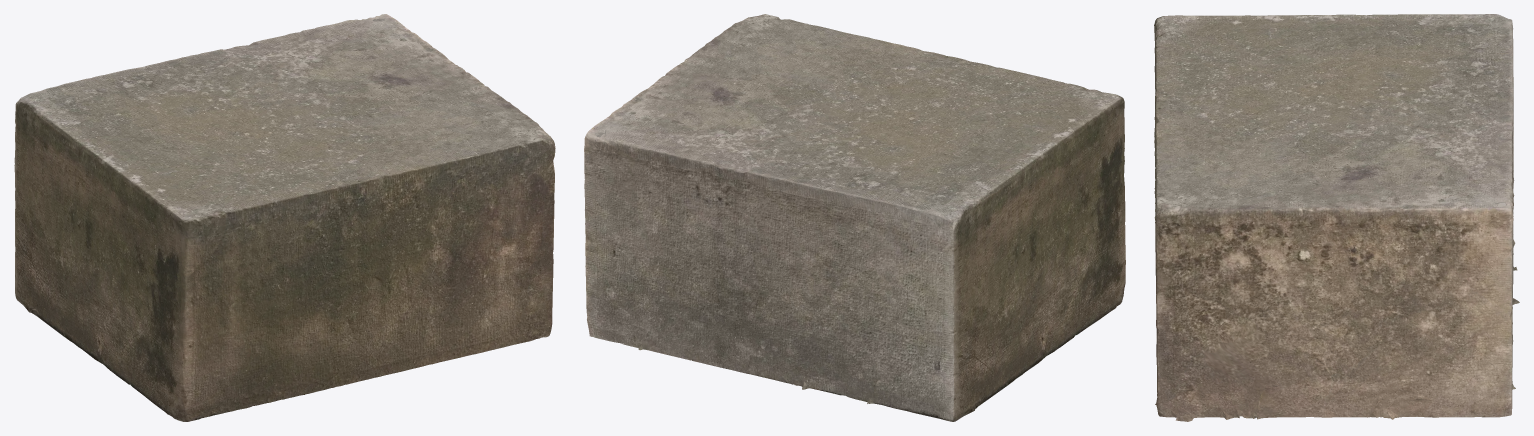
The model's file is base-sandstone.glb.
The picture shows the model from 3 angles, left to right: view 1: azimuth 30°, elevation 25°; view 2: azimuth 150°, elevation 25°; view 3: azimuth 270°, elevation 25°; orthographic projection. The views are drawn at different scales.
Visible parts, largest first — view 1: Model_material0_0; view 2: Model_material0_0; view 3: Model_material0_0.
Part boxes in pixels (bbox=[...]): Model_material0_0: bbox=[14, 14, 555, 421]; Model_material0_0: bbox=[584, 14, 1125, 421]; Model_material0_0: bbox=[1154, 14, 1519, 421].
Bounding box in the file's own units: 4.77 × 2.47 × 3.78.
1 material, 1 textured.
